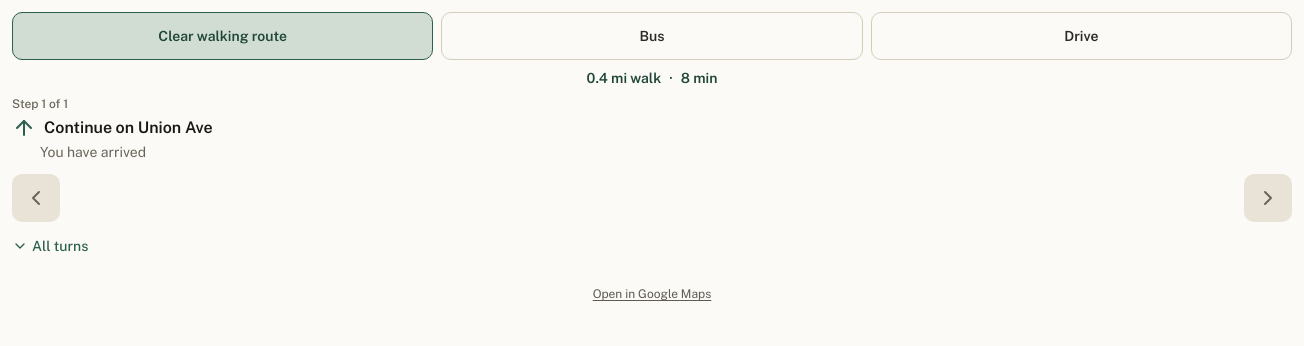
Scenario: DirectionButtons — turn-by-turn step list (#134 enhancement) › long steps show distance in miles
Step 1. Click the button with test id "walk-stepper-all-turns-toggle" → (50, 246), box [12, 230, 88, 262]
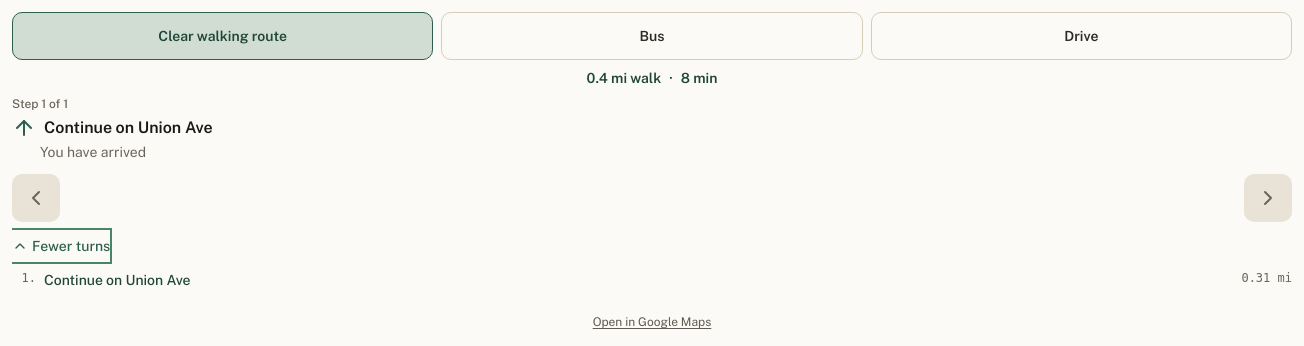
Now the list with test id "walk-steps-list" shows "mi", box [12, 270, 1292, 290]
